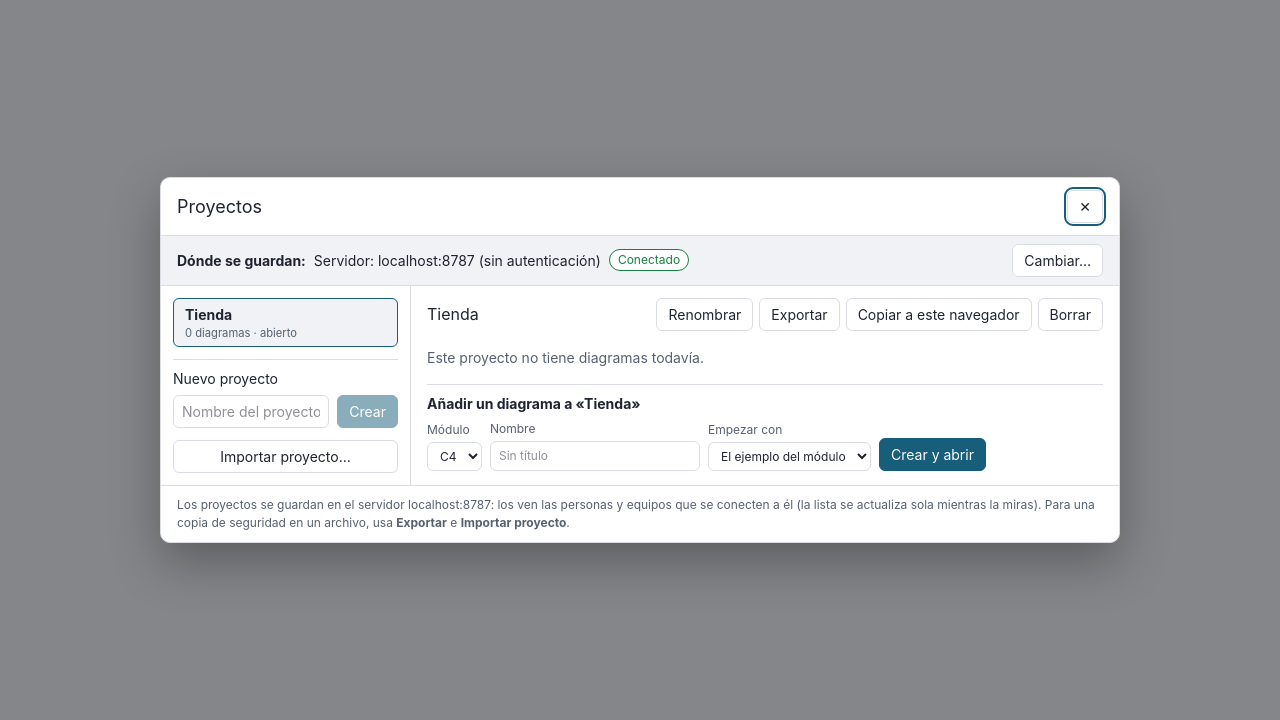
Test: gestor de proyectos con el almacén en la nube › con los proyectos en un servidor › el pie corresponde al servidor, y la copia va al navegador
The image size is (1280, 720).
Expected: the footer with test id "projects-foot" shows "Los proyectos se guardan en el servidor localhost:8787", [161, 485, 1119, 542]
Expected: the footer with test id "projects-foot" does not show "en este navegador", [161, 485, 1119, 542]
Click the button "Copiar a este navegador".
click(939, 314)  # box [846, 298, 1032, 331]
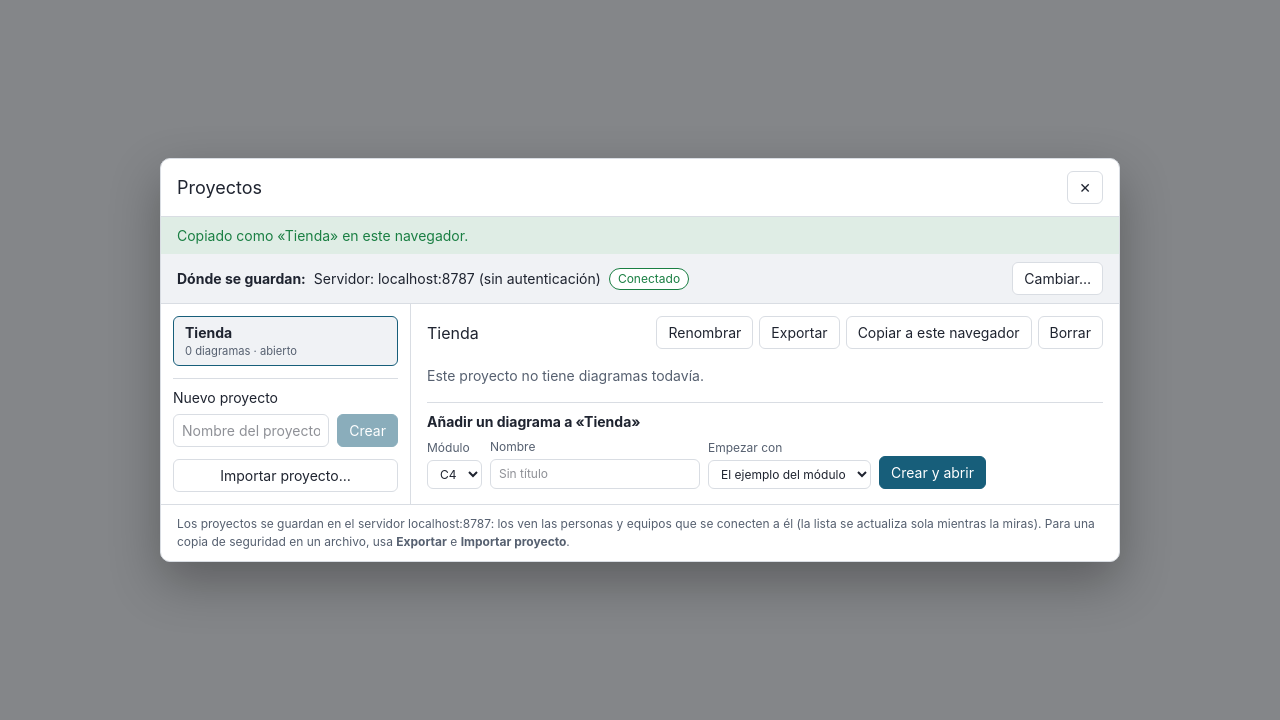
Expected: the message with test id "projects-note" reads "Copiado como «Tienda» en este navegador.", [177, 227, 468, 244]
